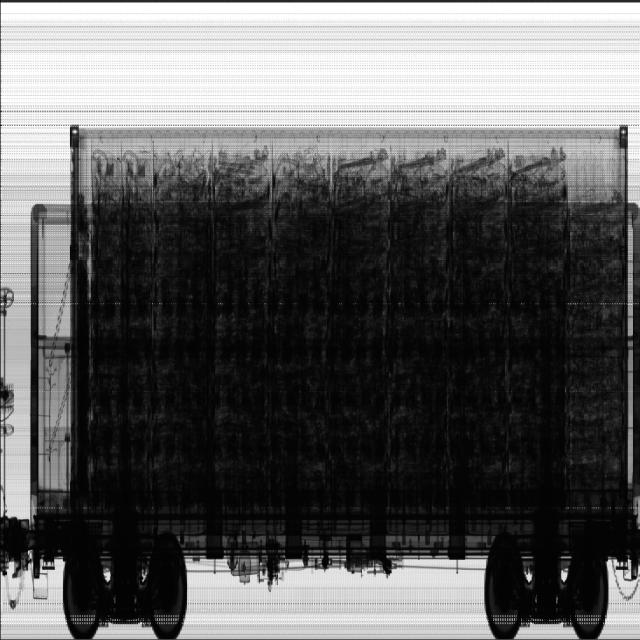spare parts: (563, 195, 626, 497)
